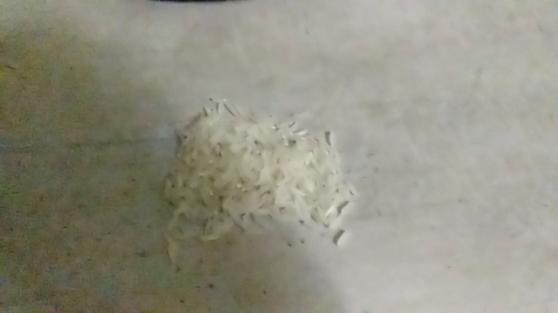rice: (132, 98, 382, 284)
